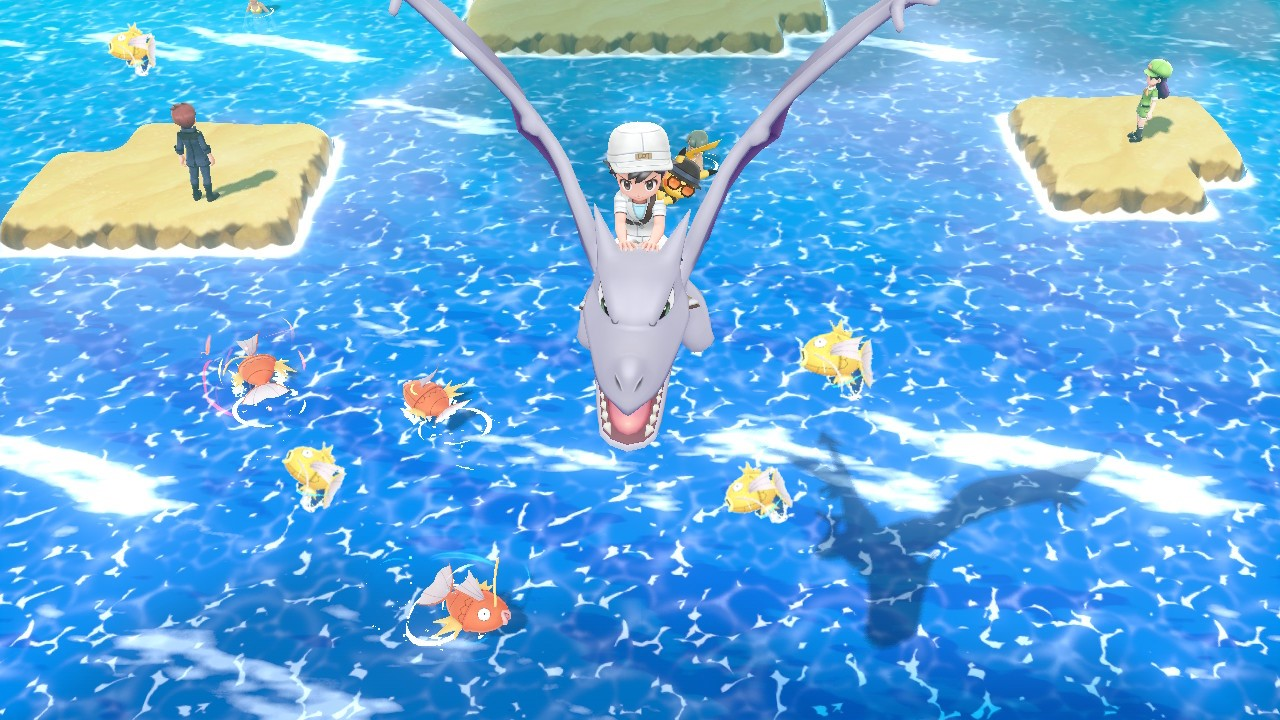Golden: (794, 319, 877, 387), (722, 463, 792, 524), (286, 442, 344, 512), (108, 22, 161, 72)
Red: (417, 567, 513, 639), (226, 332, 296, 404), (400, 377, 461, 427)
